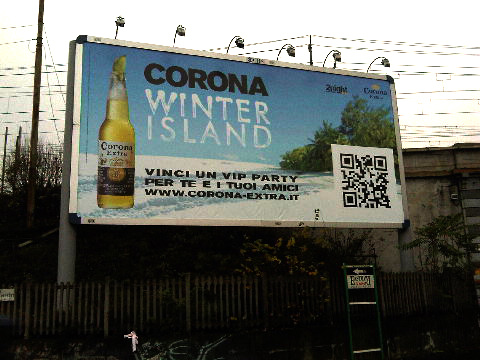QR-CODE: (340, 153, 390, 207)
